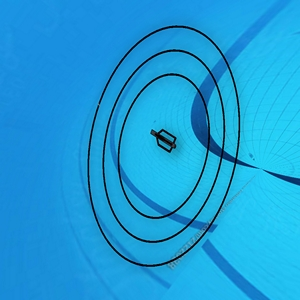circle: (87, 25, 241, 272)
submarine: (150, 127, 180, 148)
